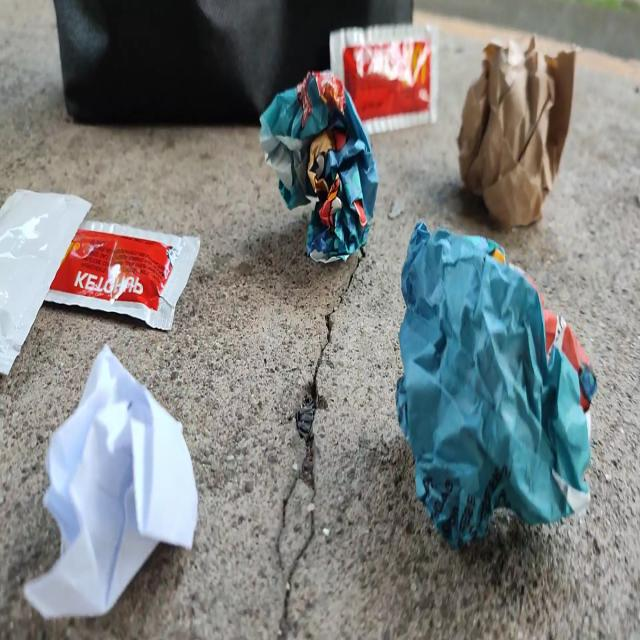paper: (389, 221, 595, 556), (18, 328, 208, 630), (451, 32, 592, 230), (259, 64, 374, 270)
